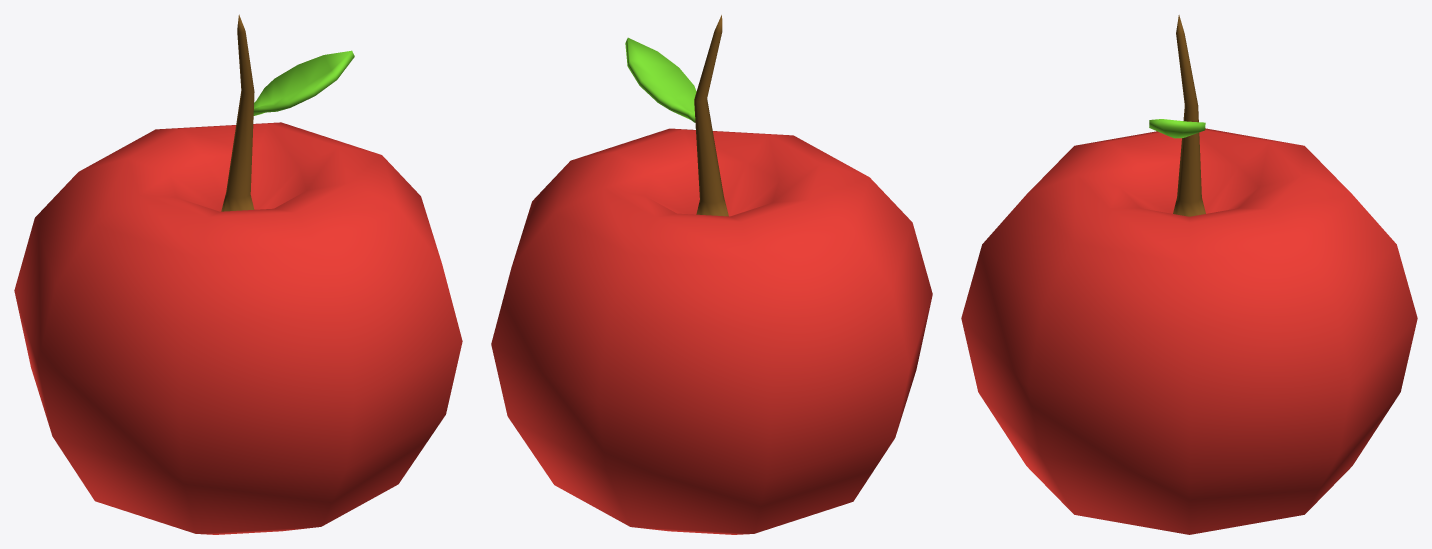
File: Apple.fbx
3 renders of one model, left to right at view 1: azimuth 30°, elevation 25°; view 2: azimuth 150°, elevation 25°; view 3: azimuth 270°, elevation 25°, orthographic.
Visible parts, largest first — view 1: Circle; view 2: Circle; view 3: Circle.
Boxes of the visible parts, x1,y1,x2,y2 form: Circle: (14, 14, 462, 534); Circle: (491, 15, 932, 534); Circle: (961, 15, 1417, 534).
Bounding box in the file's own units: 0.1461 × 0.1704 × 0.1461.
